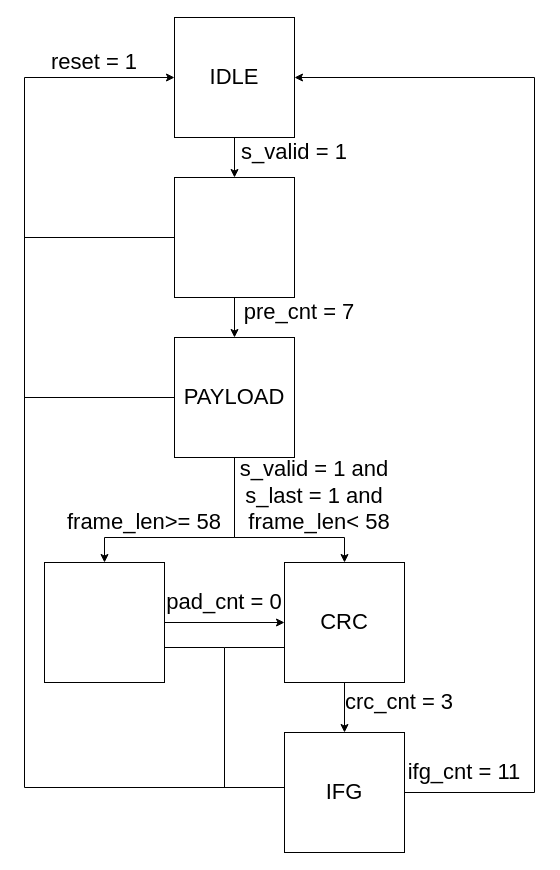
This 560x870 diagram has some shape labels left out. Each missing label, with the centre of its shape:
"PADDING" belongs at point (104, 622).
"PREAMBLE" belongs at point (234, 237).
